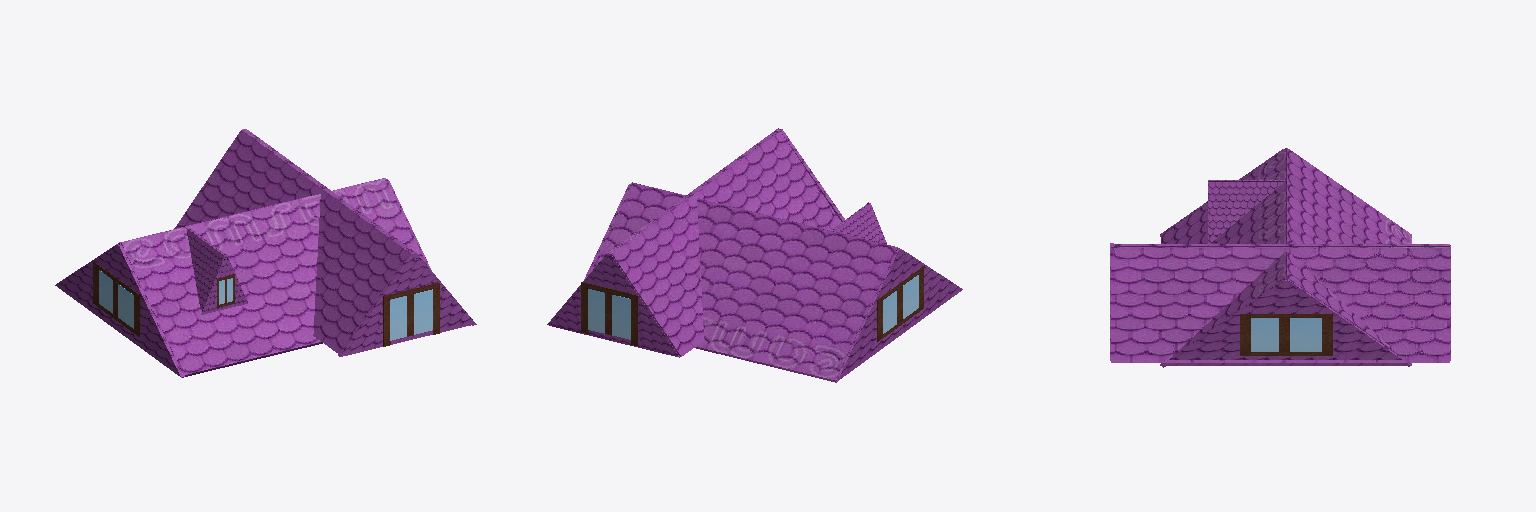
3 renders of one model, left to right at view 1: azimuth 30°, elevation 25°; view 2: azimuth 150°, elevation 25°; view 3: azimuth 270°, elevation 25°, orthographic.
Parts seen in each view (by area): view 1: group techo1:pCube21, group techo1:pCube22, group techo1:pCube23, group techo1:pasted__pCube2group7, group techo1:grouppasted__pasted__pasted__pCube1pasted__pasted__, group techo1:pasted__pCube5group11, group techo1:pasted__pasted__pCube2pasted__group7group9, group techo1:pasted__pasted__pCube1pasted__groupgroup1; view 2: group techo1:pasted__pCube3group6, group techo1:pCube22, group techo1:pCube23, group techo1:pCube24, group techo1:grouppasted__pasted__pasted__pCube1pasted__pasted__, group techo1:pasted__pCube5group11, group techo1:pasted__pasted__pCube1pasted__groupgroup6; view 3: group techo1:pCube25, group techo1:pasted__pCube3group6, group techo1:pasted__pCube1group5, group techo1:pCube21, group techo1:pCube30, group techo1:pasted__pCube4group12, group techo1:grouppasted__pasted__pasted__pCube1pasted__pasted__, group techo1:pCube22, group techo1:pasted__pasted__pCube1pasted__groupgroup7.
Boxes of the visible parts, x1,y1,x2,y2 form: group techo1:pCube21: [121, 178, 426, 377]; group techo1:pCube22: [174, 129, 412, 353]; group techo1:pCube23: [55, 244, 184, 377]; group techo1:pasted__pCube2group7: [338, 251, 475, 356]; group techo1:grouppasted__pasted__pasted__pCube1pasted__pasted__: [118, 274, 439, 336]; group techo1:pasted__pCube5group11: [186, 228, 225, 309]; group techo1:pasted__pasted__pCube2pasted__group7group9: [201, 254, 247, 314]; group techo1:pasted__pasted__pCube1pasted__groupgroup1: [390, 296, 406, 340]; group techo1:pasted__pCube3group6: [591, 183, 897, 382]; group techo1:pCube22: [608, 130, 841, 356]; group techo1:pCube23: [833, 248, 962, 381]; group techo1:pCube24: [550, 254, 679, 357]; group techo1:grouppasted__pasted__pasted__pCube1pasted__pasted__: [612, 266, 923, 345]; group techo1:pasted__pCube5group11: [832, 203, 886, 243]; group techo1:pasted__pasted__pCube1pasted__groupgroup6: [588, 289, 604, 333]; group techo1:pCube25: [1112, 247, 1449, 362]; group techo1:pasted__pCube3group6: [1286, 148, 1411, 366]; group techo1:pasted__pCube1group5: [1160, 279, 1411, 365]; group techo1:pCube21: [1161, 148, 1287, 367]; group techo1:pCube30: [1111, 247, 1444, 362]; group techo1:pasted__pCube4group12: [1209, 182, 1283, 243]; group techo1:grouppasted__pasted__pasted__pCube1pasted__pasted__: [1290, 314, 1332, 355]; group techo1:pCube22: [1114, 244, 1449, 246]; group techo1:pasted__pasted__pCube1pasted__groupgroup7: [1251, 318, 1278, 351].
Bounding box in the file's own units: 99.8 × 32.89 × 109.
Materials: 10 (3 with a texture image).